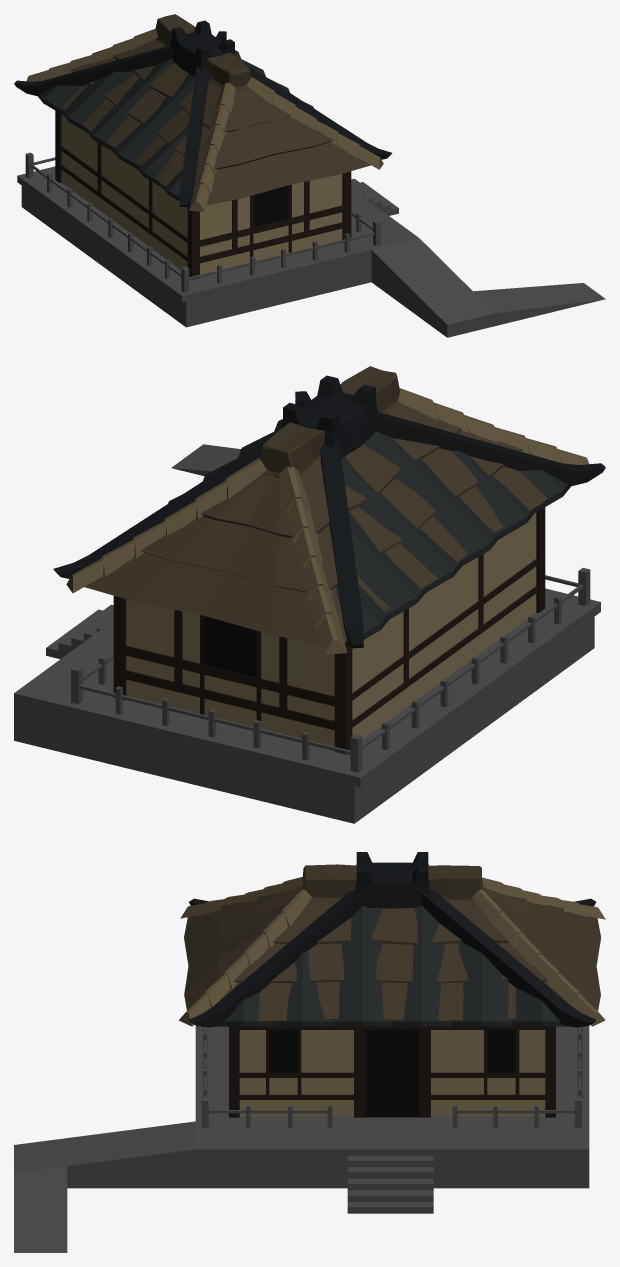
File: 装饰房.fbx
The picture shows the model from 3 angles, top to bottom: view 1: azimuth 30°, elevation 25°; view 2: azimuth 150°, elevation 25°; view 3: azimuth 270°, elevation 25°; orthographic projection. The views are drawn at different scales.
Visible parts, largest first — view 1: 底座_1, 屋顶_1, 屋顶_2, 主体, 底座_2, 装饰条_1, 装饰条_2; view 2: 屋顶_1, 底座_1, 屋顶_2, 主体, 底座_2, 装饰条_1, 装饰条_2; view 3: 底座_1, 屋顶_1, 屋顶_2, 主体, 门, 底座_2, 装饰条_1, 装饰条_2.
Part boxes in pixels (box(x1,y1,x2,y2)): 底座_1: box(21, 166, 605, 337); 屋顶_1: box(26, 14, 383, 211); 屋顶_2: box(14, 20, 391, 207); 主体: box(61, 114, 342, 274); 底座_2: box(17, 152, 388, 302); 装饰条_1: box(55, 110, 351, 279); 装饰条_2: box(60, 147, 342, 259); 屋顶_1: box(66, 366, 588, 654); 底座_1: box(14, 444, 594, 823); 屋顶_2: box(53, 375, 605, 648); 主体: box(126, 512, 536, 746); 底座_2: box(58, 568, 600, 787); 装饰条_1: box(113, 507, 545, 754); 装饰条_2: box(125, 555, 537, 725); 底座_1: box(14, 1026, 589, 1252); 屋顶_1: box(179, 864, 605, 1026); 屋顶_2: box(189, 852, 595, 1027); 主体: box(239, 1030, 545, 1116); 门: box(354, 1026, 430, 1117); 底座_2: box(195, 1025, 589, 1128); 装饰条_1: box(229, 1026, 555, 1117); 装饰条_2: box(239, 1026, 545, 1099).
Size of the model in its own units: 1355 by 765 by 1654.
